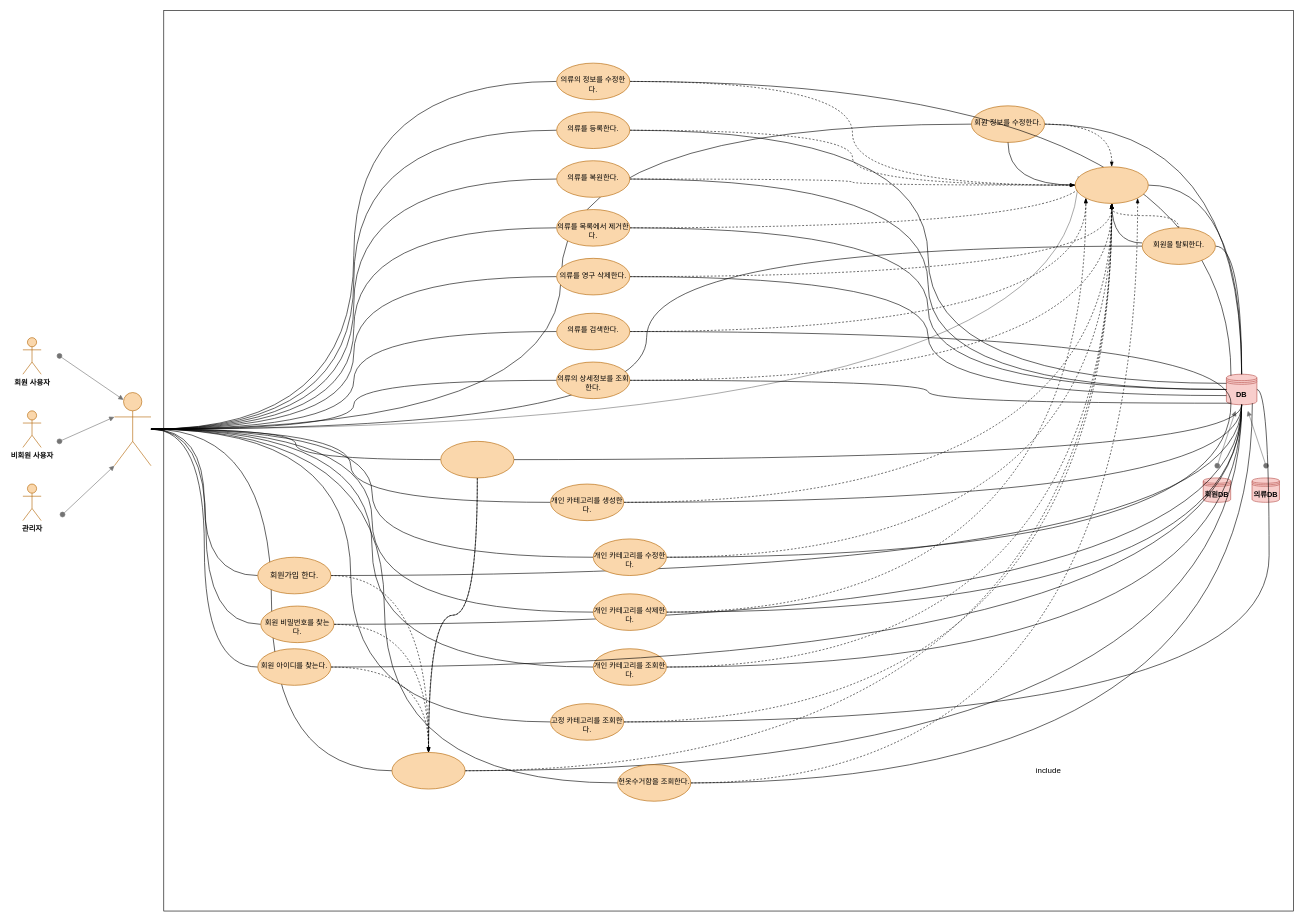
The diagram is 1304 pixels wide and 922 high, and some of its shapes have lost their labels. Here are the shapes that lost their labels. From the top down, the centre of each, then its label:
At point 1111,184: "로그인 한다.".
At point 132,429: "사용자".
At point 477,459: "홈페이지에 접속한다.".
At point 428,770: "로그아웃을 한다.".
